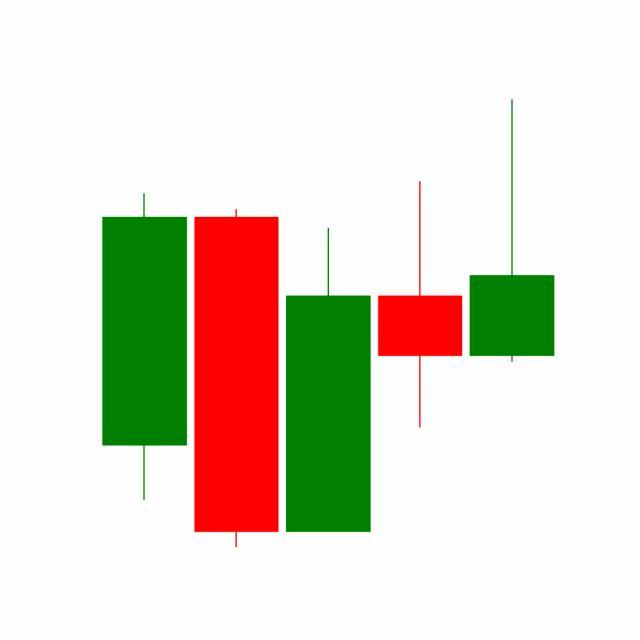Spinning Top: (374, 178, 468, 431)
